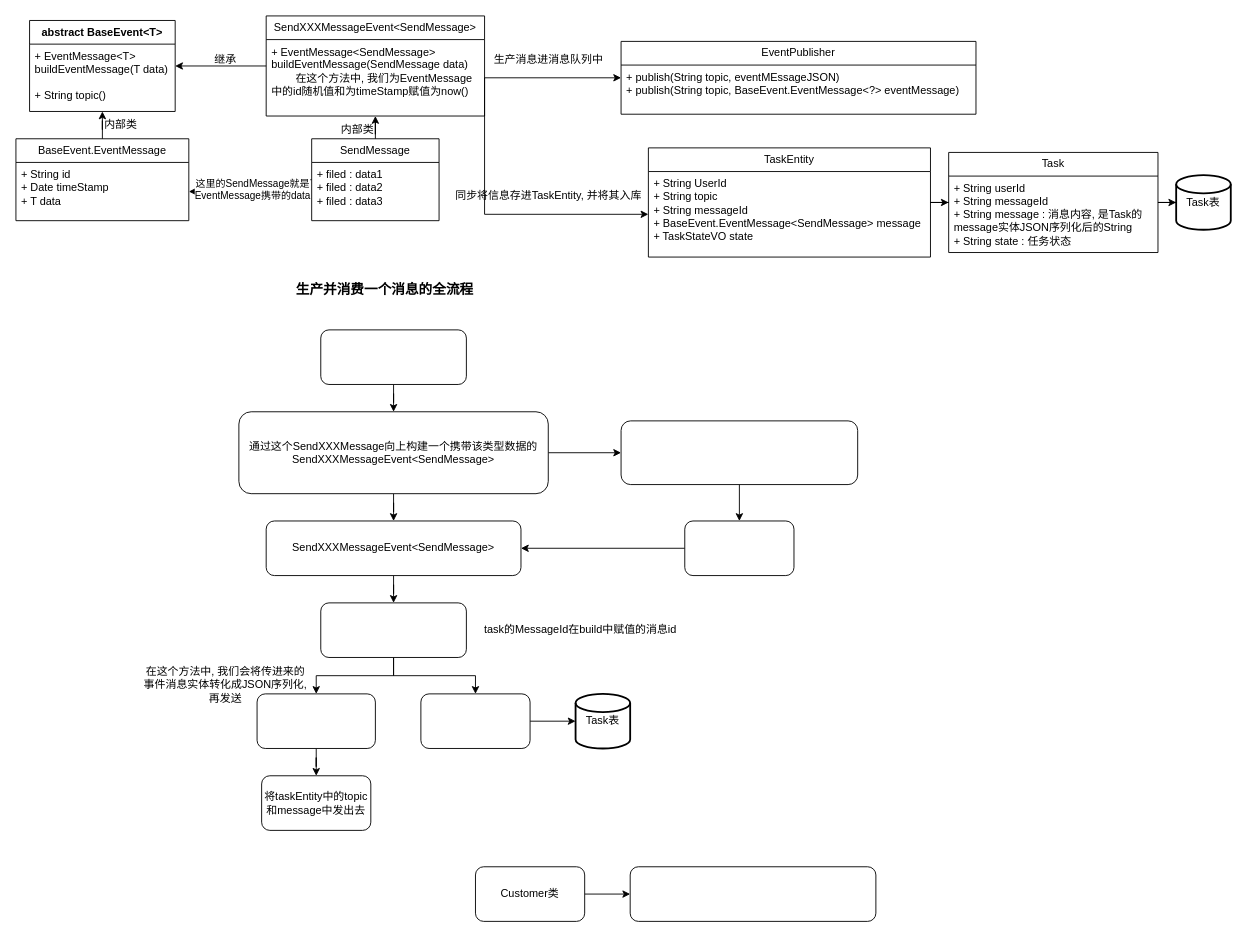
This 1248x937 diagram has some shape labels left out. The shapes that lost their labels are listed below. From the top down, each one's centre as x and y in pixels, then its label:
At (393,356): "构建 T data, 也就是SendMessage内部数据类".
At (739,452): "使用SendXXXMessageEvent<SendMessage>中的build方法".
At (739,548): "为消息的Id和timestamp赋值".
At (393,629): "将该事件消息和Topic存入taskEntity中".
At (315,720): "EventMessage.publish".
At (475,720): "Task 只存入Topic和MessageId以及消息状态, 用于超时重发".
At (752,893): "获取到String message, 将message反序列化为实体对象, 再进行消费, 并标记任务表中该id的任务为已消费".
